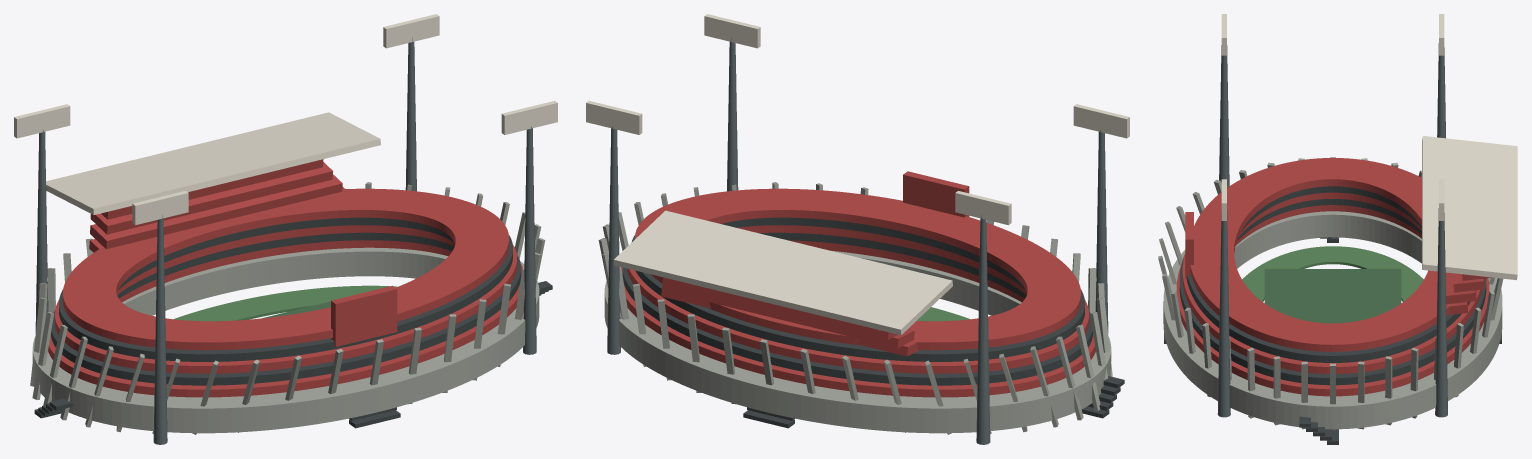
Rendered from former-national-stadium.glb.
3 views of the same model, side by side, from view 1: azimuth 30°, elevation 25°; view 2: azimuth 150°, elevation 25°; view 3: azimuth 270°, elevation 25° (orthographic). The views are drawn at different scales.
Visible parts, largest first — view 1: elliptical-bowl/elliptical-ring (×5), concourse-ring/elliptical-ring, west-canopy/canopy, west-grandstand/west-tier-1, scoreboard/form, track-and-field/elliptical-ring, west-grandstand/west-tier-2, floodlight-pylons/pylon-2, floodlight-pylons/pylon-3, floodlight-pylons/pylon-0, west-grandstand/west-tier-3, floodlight-pylons/pylon-1 (+6 smaller); view 2: elliptical-bowl/elliptical-ring (×5), west-canopy/canopy, concourse-ring/elliptical-ring, floodlight-pylons/pylon-0, floodlight-pylons/pylon-1, scoreboard/form, west-grandstand/west-tier-1, floodlight-pylons/pylon-2, west-grandstand/west-tier-2, floodlight-pylons/pylon-3, floodlight-pylons/lamp-bank-2, floodlight-pylons/lamp-bank-3 (+6 smaller); view 3: elliptical-bowl/elliptical-ring (×5), concourse-ring/elliptical-ring, west-canopy/canopy, track-and-field/form, track-and-field/elliptical-ring, floodlight-pylons/pylon-3, floodlight-pylons/pylon-1, floodlight-pylons/pylon-2, floodlight-pylons/pylon-0, scoreboard/form, west-grandstand/west-tier-1, west-grandstand/west-tier-2.
Part boxes in pixels (left/top/right/bottom): elliptical-bowl/elliptical-ring (×5): left=48, top=188, right=522, bottom=397; concourse-ring/elliptical-ring: left=32, top=247, right=539, bottom=433; west-canopy/canopy: left=46, top=112, right=380, bottom=214; west-grandstand/west-tier-1: left=90, top=174, right=342, bottom=248; scoreboard/form: left=331, top=285, right=397, bottom=346; track-and-field/elliptical-ring: left=173, top=285, right=397, bottom=321; west-grandstand/west-tier-2: left=90, top=162, right=333, bottom=234; floodlight-pylons/pylon-2: left=153, top=215, right=167, bottom=444; floodlight-pylons/pylon-3: left=523, top=126, right=536, bottom=354; floodlight-pylons/pylon-0: left=35, top=130, right=48, bottom=332; west-grandstand/west-tier-3: left=101, top=159, right=323, bottom=219; floodlight-pylons/pylon-1: left=405, top=37, right=416, bottom=191; elliptical-bowl/elliptical-ring (×5): left=621, top=188, right=1095, bottom=397; west-canopy/canopy: left=613, top=210, right=952, bottom=335; concourse-ring/elliptical-ring: left=604, top=250, right=1111, bottom=433; floodlight-pylons/pylon-0: left=976, top=215, right=990, bottom=444; floodlight-pylons/pylon-1: left=607, top=126, right=620, bottom=354; scoreboard/form: left=903, top=171, right=969, bottom=217; west-grandstand/west-tier-1: left=662, top=281, right=914, bottom=348; floodlight-pylons/pylon-2: left=1095, top=130, right=1108, bottom=332; west-grandstand/west-tier-2: left=662, top=277, right=897, bottom=339; floodlight-pylons/pylon-3: left=727, top=38, right=738, bottom=191; floodlight-pylons/lamp-bank-2: left=1073, top=104, right=1129, bottom=138; floodlight-pylons/lamp-bank-3: left=704, top=14, right=760, bottom=48; elliptical-bowl/elliptical-ring (×5): left=1176, top=158, right=1489, bottom=396; concourse-ring/elliptical-ring: left=1163, top=211, right=1502, bottom=429; west-canopy/canopy: left=1422, top=136, right=1517, bottom=280; track-and-field/form: left=1264, top=269, right=1401, bottom=323; track-and-field/elliptical-ring: left=1242, top=246, right=1423, bottom=301; floodlight-pylons/pylon-3: left=1217, top=210, right=1230, bottom=417; floodlight-pylons/pylon-1: left=1435, top=208, right=1447, bottom=417; floodlight-pylons/pylon-2: left=1219, top=45, right=1229, bottom=187; floodlight-pylons/pylon-0: left=1437, top=43, right=1445, bottom=138; scoreboard/form: left=1185, top=212, right=1193, bottom=278; west-grandstand/west-tier-1: left=1445, top=272, right=1476, bottom=304; west-grandstand/west-tier-2: left=1453, top=273, right=1484, bottom=292.
Bounding box in the file's own units: 24.2 × 11.44 × 16.54.
